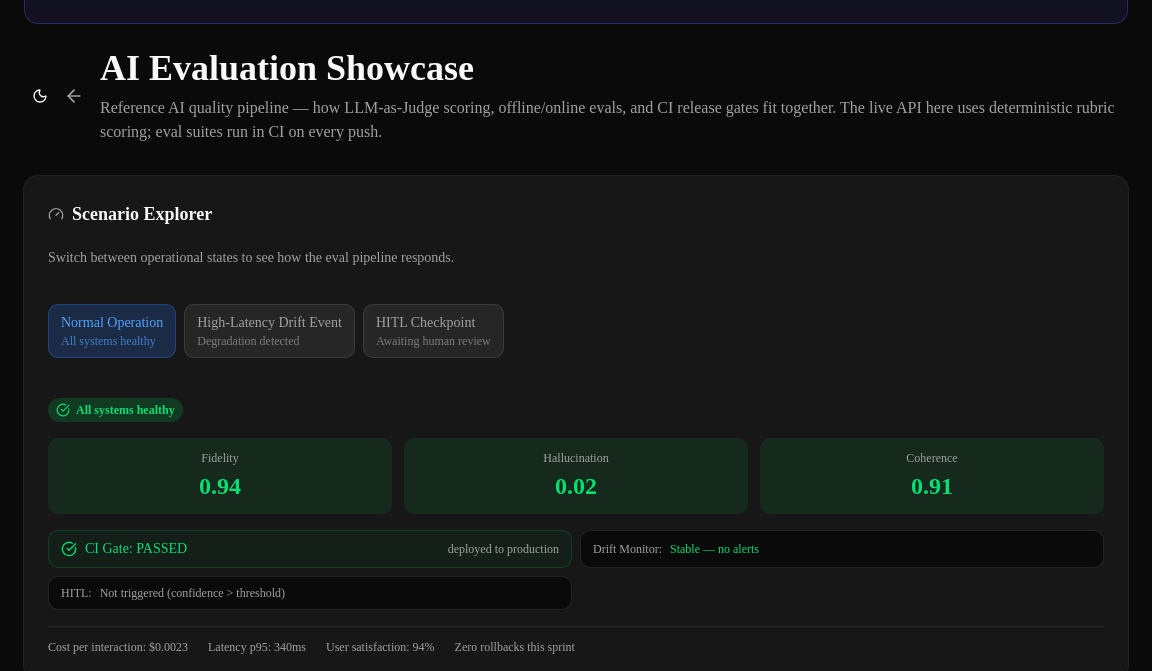
EvaluationShowcasePage › handles HITL approve and reject flows with reset
(page scrolled)
Step 1. Click the button "HITL Checkpoint Awaiting human review" → click(433, 330), box [363,304,504,358]
(page scrolled)
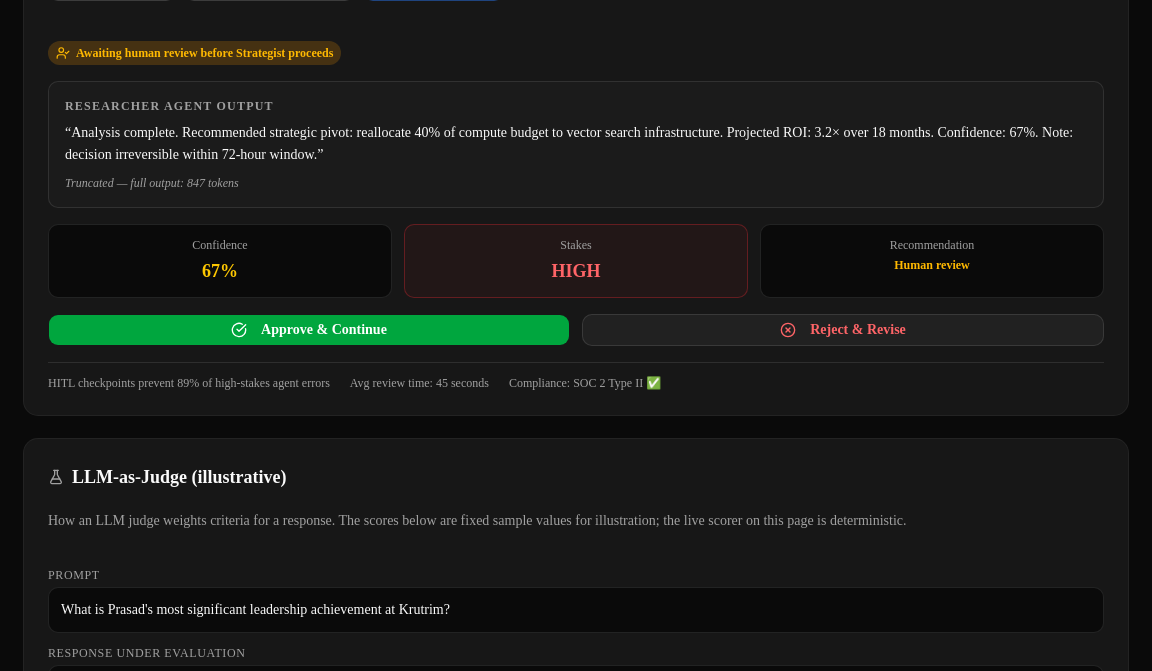
Step 2. Click the button "Approve & Continue" → click(309, 330), box [48,314,570,346]
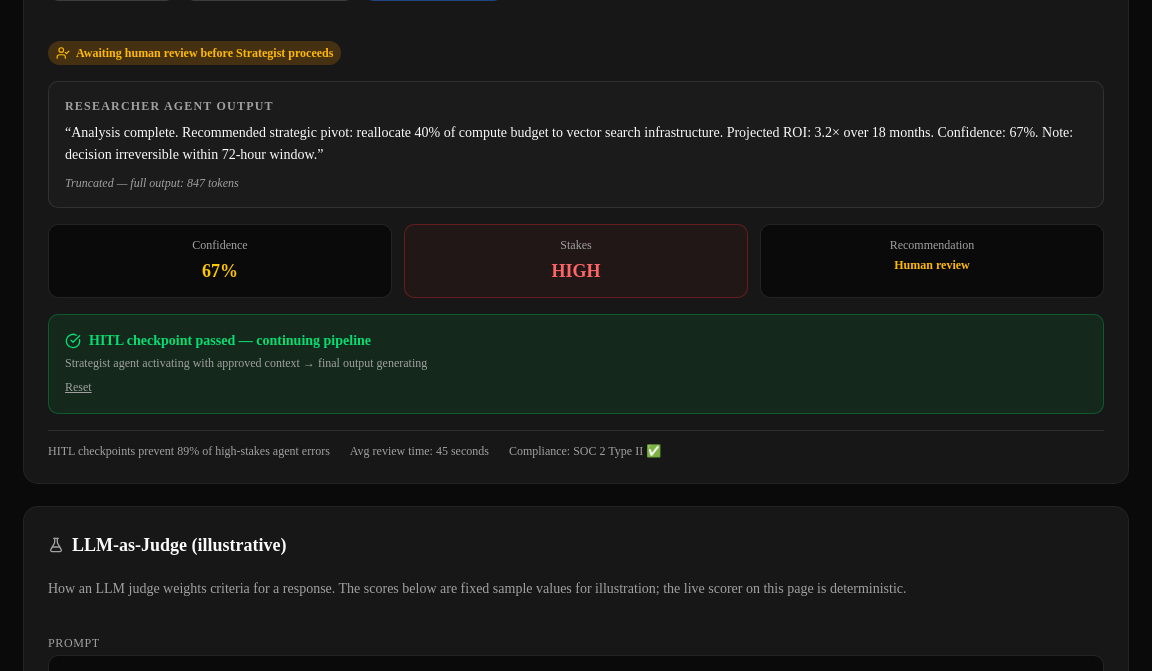
Check: the text "HITL checkpoint passed — continuing pipeline" is shown, box [89,331,371,351]
Step 3. Click the button "Reset" → click(78, 387), box [65,379,92,395]
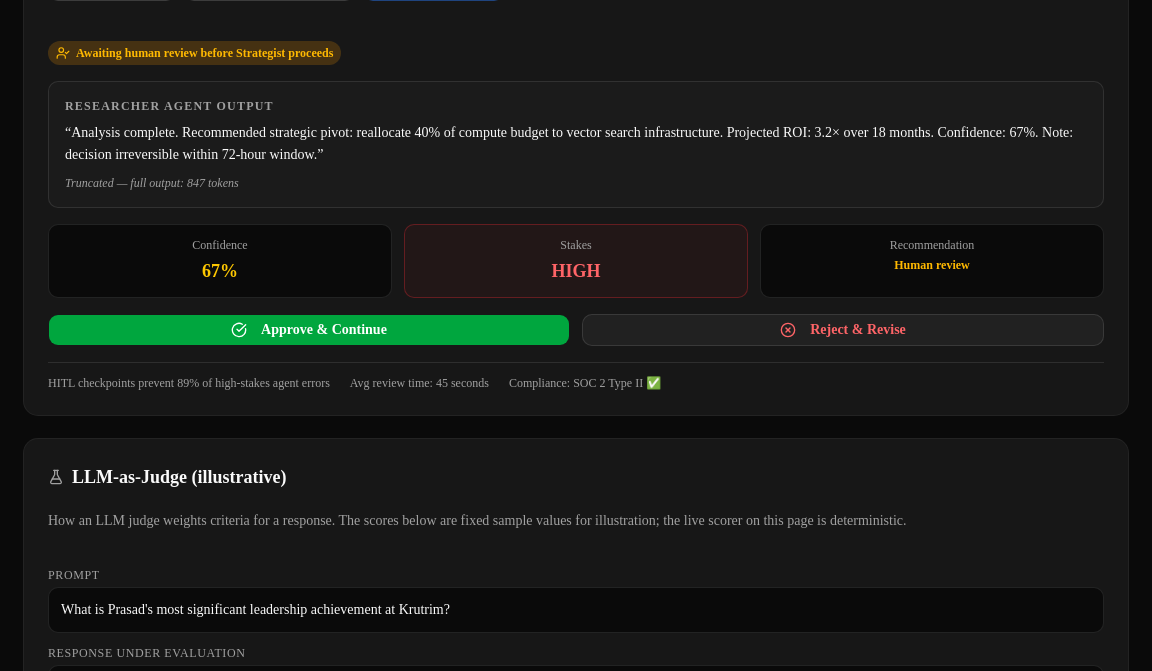
Step 4. Click the button "Reject & Revise" → click(843, 330), box [582,314,1104,346]
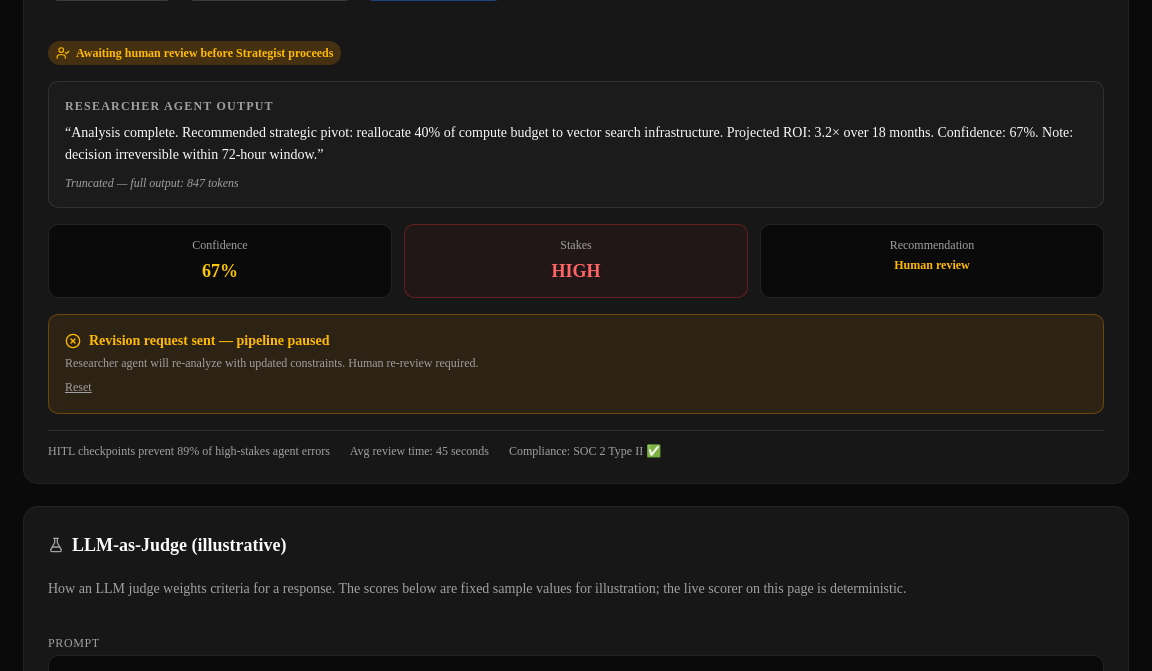
Check: the text "Revision request sent — pipeline paused" is shown, box [89,331,330,351]
